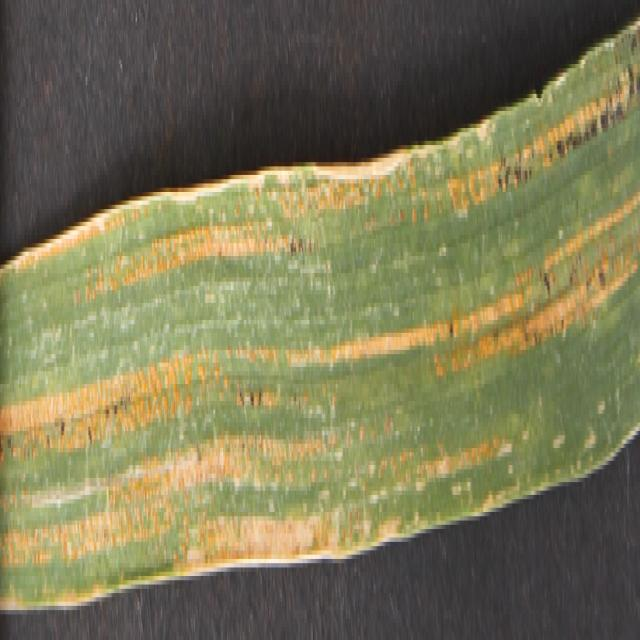leaf rust: (1, 21, 636, 610)
